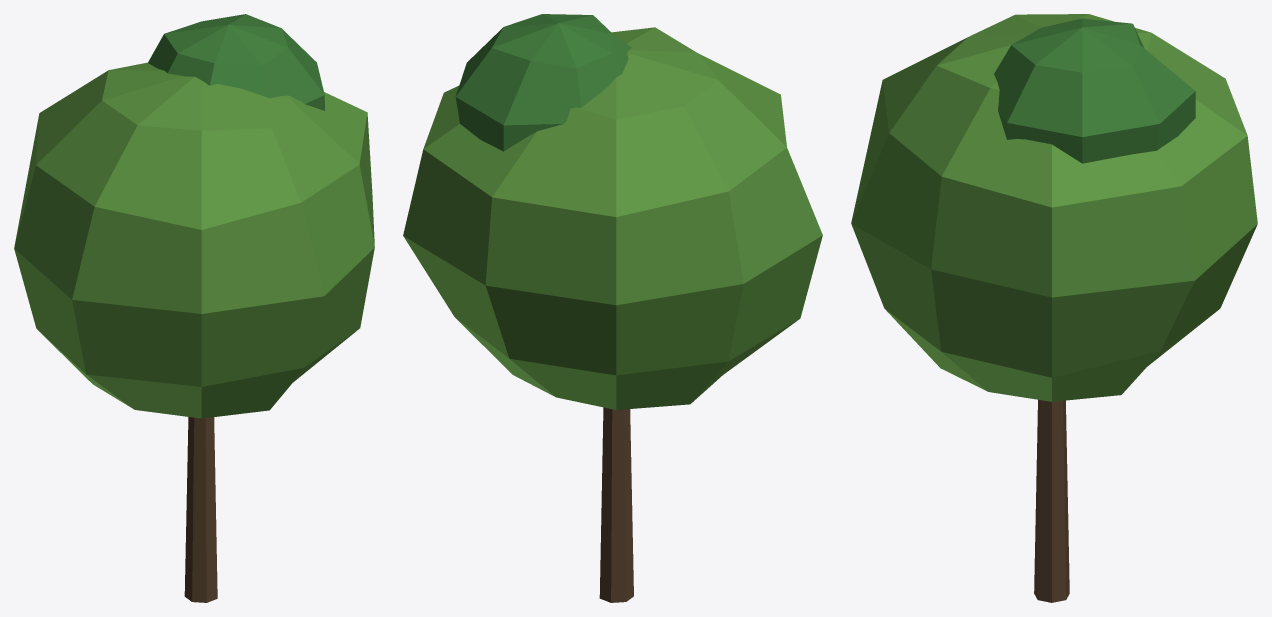
Rendered from Tree1.glb.
3 renders of one model, left to right at view 1: azimuth 30°, elevation 25°; view 2: azimuth 150°, elevation 25°; view 3: azimuth 270°, elevation 25°, orthographic. The views are drawn at different scales.
Visible parts, largest first — view 1: Tree1; view 2: Tree1; view 3: Tree1.
Boxes of the visible parts, x1=… form: Tree1: x1=14, y1=14, x2=374, y2=602; Tree1: x1=403, y1=14, x2=822, y2=602; Tree1: x1=851, y1=14, x2=1257, y2=602.
Size of the model in its own units: 4.07 by 6.4 by 4.
